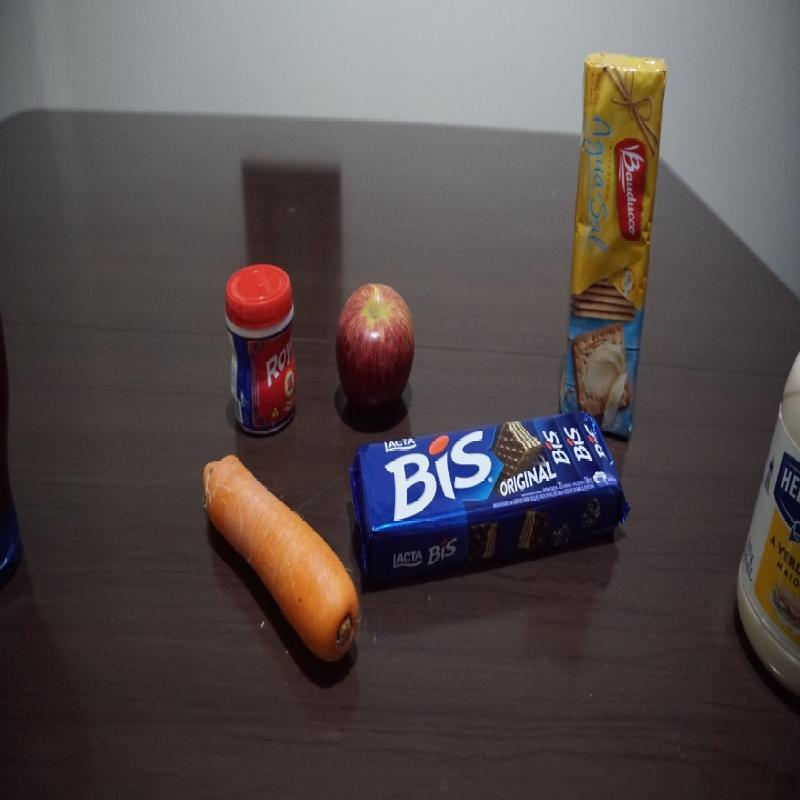Apple: (334, 275, 416, 422)
Carrot: (201, 453, 362, 672)
Cracker: (553, 49, 671, 440)
Ketchup: (1, 316, 26, 605)
Mayonnaise: (733, 344, 800, 710)
Yeast: (224, 264, 298, 434)
